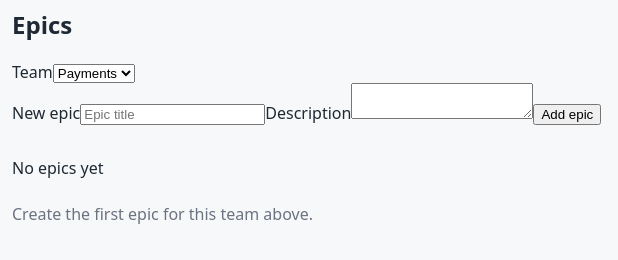
Test: EpicsPage › blocks create when the title is blank (negative)
Expected: the text "No epics yet" is shown, x1=12 y1=157 x2=104 y2=179
Click the button "Add epic" at (567, 114), box x1=533 y1=104 x2=601 y2=125
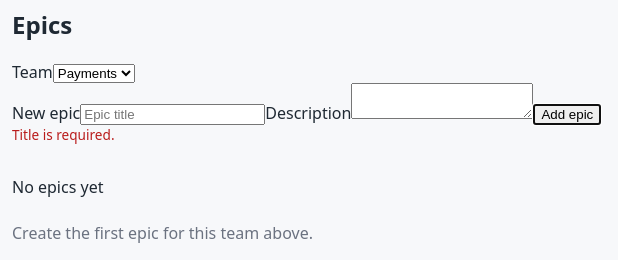
Expected: the text "Title is required." is shown, x1=12 y1=125 x2=114 y2=144
